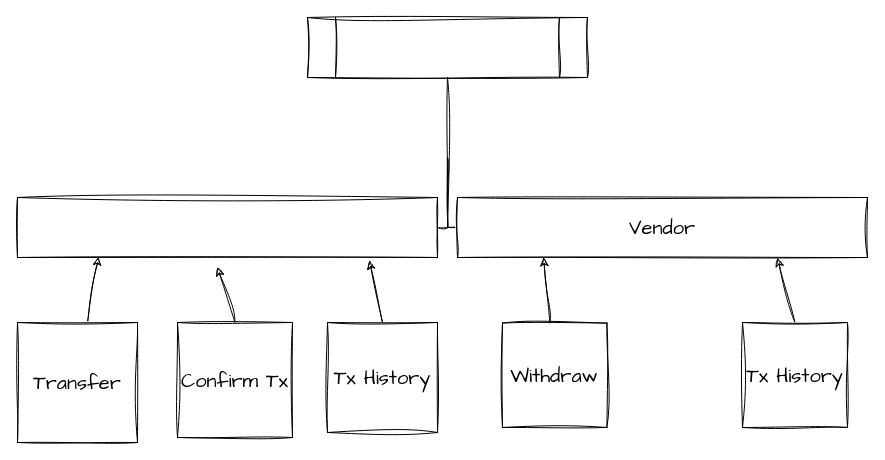
This 885x460 diagram has some shape labels left out. Here are the shapes that lost their labels. From the top down, the centre of each, then its label:
the point at 447,47: Payvry AI
the point at 227,227: User/Student
